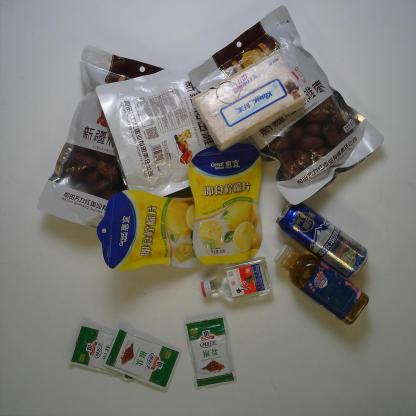Alcohol: (274, 198, 373, 278), (199, 257, 274, 302)
Dried Food: (188, 4, 386, 207), (36, 45, 205, 240), (94, 46, 292, 207)
Dried Fruit: (94, 188, 219, 272), (188, 140, 266, 268)
Drink: (269, 240, 370, 324)
Seasoner: (100, 327, 182, 392), (71, 324, 148, 384), (182, 315, 236, 390)
Tissue: (190, 50, 310, 152)
